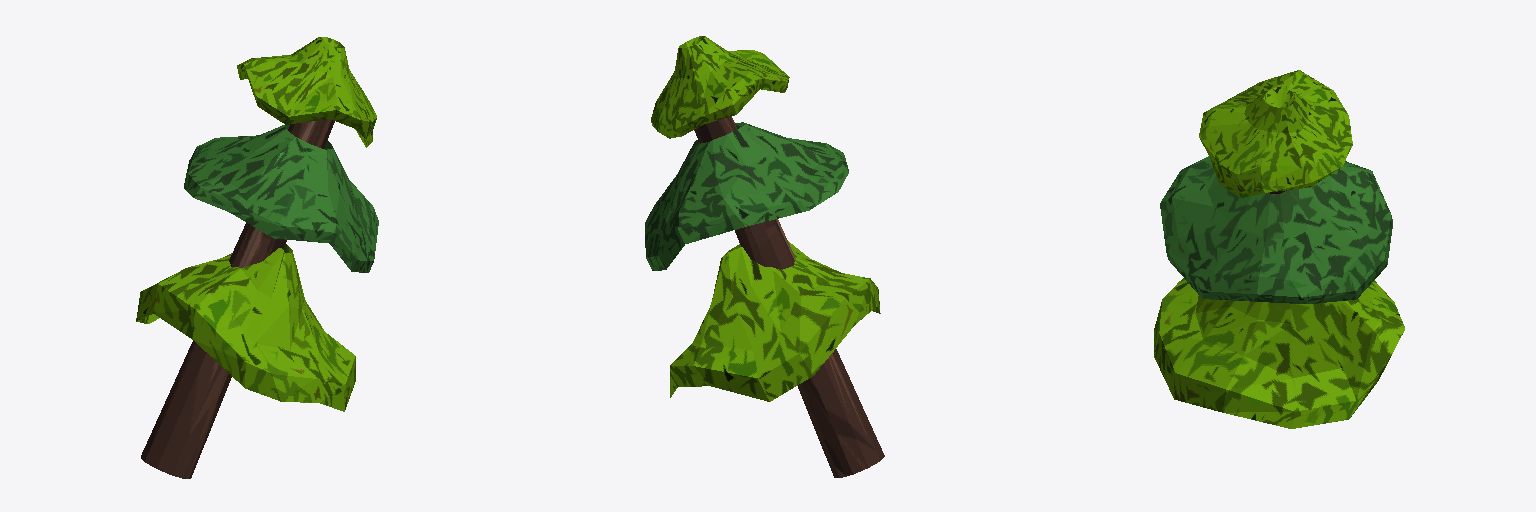
The picture shows the model from 3 angles: view 1: azimuth 30°, elevation 25°; view 2: azimuth 150°, elevation 25°; view 3: azimuth 270°, elevation 25°; orthographic projection.
Parts seen in each view (by area): view 1: Tree1; view 2: Tree1; view 3: Tree1.
Boxes of the visible parts, <box> form: Tree1: <box>136,37,378,478</box>; Tree1: <box>645,36,884,477</box>; Tree1: <box>1154,70,1404,428</box>.
Size of the model in its own units: 3.57 by 6.09 by 3.46.
1 materials, 1 textured.